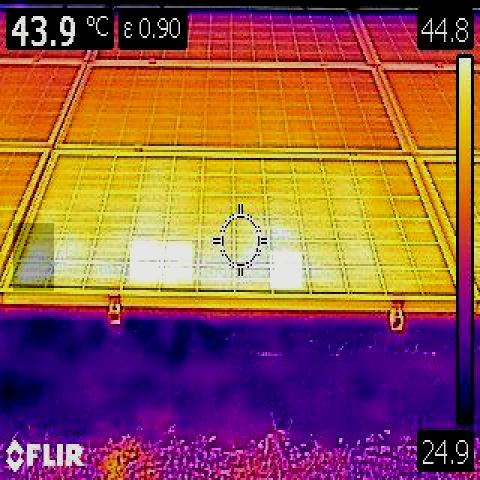fault: (13, 223, 54, 291), (130, 241, 192, 284), (270, 252, 302, 288)
